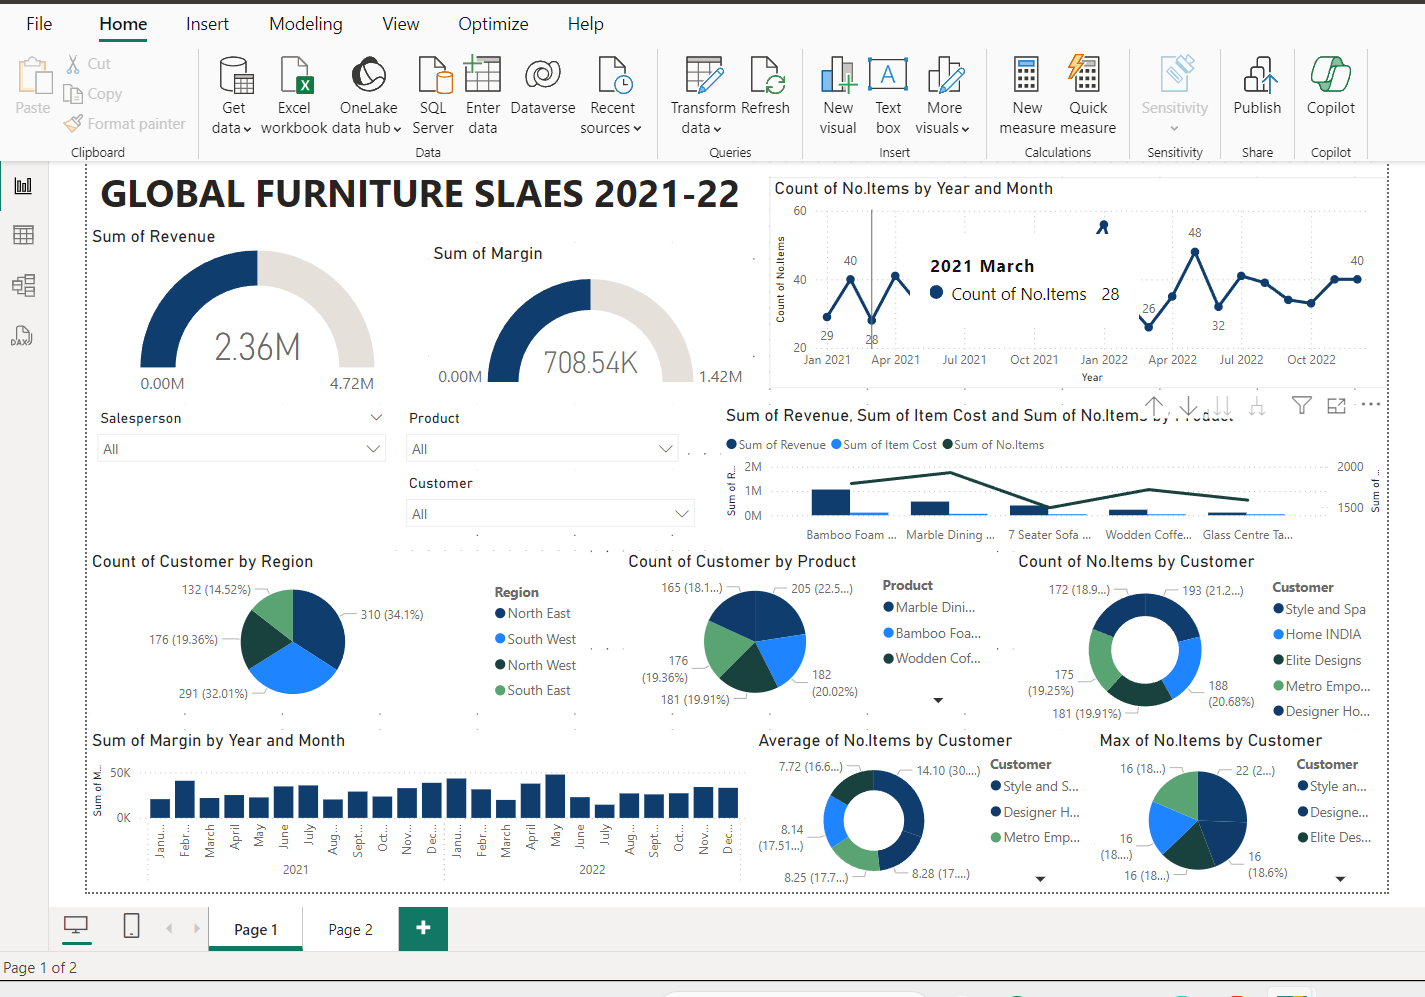

What the dashboard file says about the page in this screenshot:
{"tool":"powerbi","page":{"name":"Page 1","canvas":[1280,720],"ordinal":0},"visuals":[{"type":"textbox","box":[0,0,656,80],"z":0},{"type":"clusteredColumnChart","fields":{"Y":["Sum(Raw_Data.Margin)"],"Category":["Raw_Data.Date.Variation.Date Hierarchy.Year","Raw_Data.Date.Variation.Date Hierarchy.Month"]},"box":[0,560,656,160],"z":1000},{"type":"donutChart","fields":{"Category":["Raw_Data.Customer"],"Y":["Avg(Raw_Data.No.Items)"]},"box":[656,560,336,160],"z":2000},{"type":"pieChart","fields":{"Category":["Raw_Data.Customer"],"Y":["Max(Raw_Data.No.Items)"]},"box":[992,560,288,160],"z":3000},{"type":"donutChart","fields":{"Category":["Raw_Data.Customer"],"Y":["CountNonNull(Raw_Data.No.Items)"]},"box":[912,384,368,176],"z":4000},{"type":"pieChart","fields":{"Y":["CountNonNull(Raw_Data.Customer)"],"Category":["Raw_Data.Region"]},"box":[0,384,496,160],"z":5000},{"type":"pieChart","fields":{"Category":["Raw_Data.Product"],"Y":["CountNonNull(Raw_Data.Customer)"]},"box":[528,384,368,160],"z":6000},{"type":"lineClusteredColumnComboChart","fields":{"Category":["Raw_Data.Product"],"Y":["Sum(Raw_Data.Revenue)","Sum(Raw_Data.Item Cost)"],"Y2":["Sum(Raw_Data.No.Items)"]},"box":[624,240,656,144],"z":7000},{"type":"lineChart","fields":{"Category":["Raw_Data.Date.Variation.Date Hierarchy.Year","Raw_Data.Date.Variation.Date Hierarchy.Month"],"Y":["CountNonNull(Raw_Data.No.Items)"]},"box":[672,16,608,208],"z":8000},{"type":"slicer","fields":{"Values":["Raw_Data.Customer"]},"box":[304,304,304,64],"z":9000},{"type":"slicer","fields":{"Values":["Raw_Data.Product"]},"box":[304,240,288,64],"z":10000},{"type":"slicer","fields":{"Values":["Raw_Data.Salesperson"]},"box":[0,240,304,144],"z":11000},{"type":"gauge","fields":{"Y":["Sum(Raw_Data.Revenue)"]},"box":[0,64,336,176],"z":12000},{"type":"gauge","fields":{"Y":["Sum(Raw_Data.Margin)"]},"box":[336,80,320,160],"z":13000}]}

Visuals, with their boxes on the page's 1280x720 design canvas (x1, y1, x2, y2). These are canvas units, not pixel positions in the 1425x997 screenshot, which may show the page scaled, cropped or inside an application window:
textbox: (x1=0, y1=0, x2=656, y2=80)
clusteredColumnChart - Sum(Raw_Data.Margin) x Raw_Data.Date.Variation.Date Hierarchy.Year: (x1=0, y1=560, x2=656, y2=720)
donutChart - Raw_Data.Customer x Avg(Raw_Data.No.Items): (x1=656, y1=560, x2=992, y2=720)
pieChart - Raw_Data.Customer x Max(Raw_Data.No.Items): (x1=992, y1=560, x2=1280, y2=720)
donutChart - Raw_Data.Customer x CountNonNull(Raw_Data.No.Items): (x1=912, y1=384, x2=1280, y2=560)
pieChart - CountNonNull(Raw_Data.Customer) x Raw_Data.Region: (x1=0, y1=384, x2=496, y2=544)
pieChart - Raw_Data.Product x CountNonNull(Raw_Data.Customer): (x1=528, y1=384, x2=896, y2=544)
lineClusteredColumnComboChart - Raw_Data.Product x Sum(Raw_Data.Revenue): (x1=624, y1=240, x2=1280, y2=384)
lineChart - Raw_Data.Date.Variation.Date Hierarchy.Year x Raw_Data.Date.Variation.Date Hierarchy.Month: (x1=672, y1=16, x2=1280, y2=224)
slicer - Raw_Data.Customer: (x1=304, y1=304, x2=608, y2=368)
slicer - Raw_Data.Product: (x1=304, y1=240, x2=592, y2=304)
slicer - Raw_Data.Salesperson: (x1=0, y1=240, x2=304, y2=384)
gauge - Sum(Raw_Data.Revenue): (x1=0, y1=64, x2=336, y2=240)
gauge - Sum(Raw_Data.Margin): (x1=336, y1=80, x2=656, y2=240)
